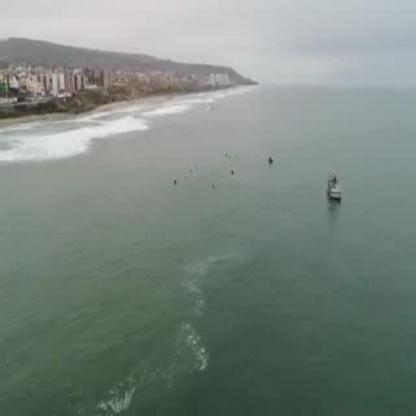Boat: (323, 173, 347, 204)
